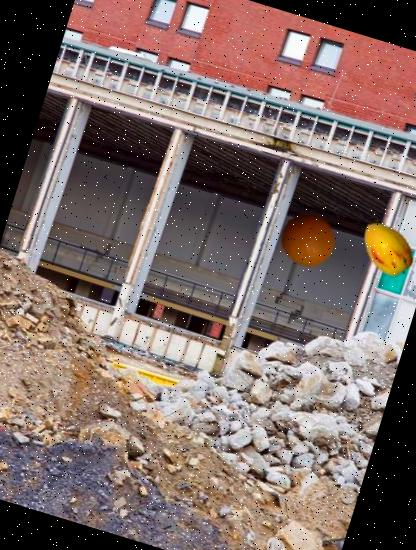Orange: (274, 205, 343, 274)
Pepino: (349, 209, 416, 285)
